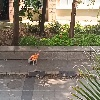fire: (30, 50, 40, 61)
